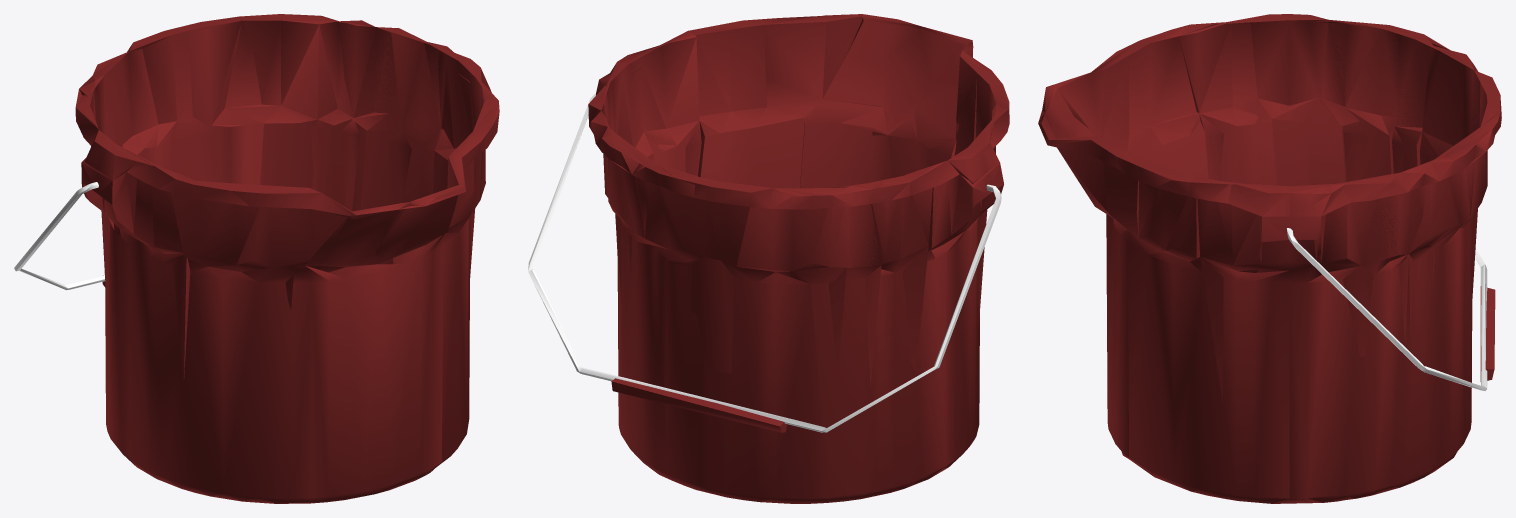
File: simready-bucket-red.lod1.a6b56cae.glb
3 renders of one model, left to right at view 1: azimuth 30°, elevation 25°; view 2: azimuth 150°, elevation 25°; view 3: azimuth 270°, elevation 25°, orthographic.
Parts seen in each view (by area): view 1: model; view 2: model; view 3: model.
Boxes of the visible parts, box(x1,y1,x2,y2) form: model: box(14, 14, 499, 503); model: box(528, 14, 1009, 503); model: box(1038, 14, 1501, 503).
Size of the model in its own units: 0.337 by 0.2588 by 0.3271.
